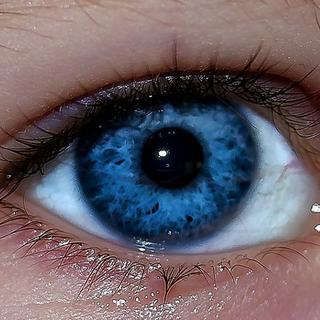pupil: (143, 128, 203, 188)
